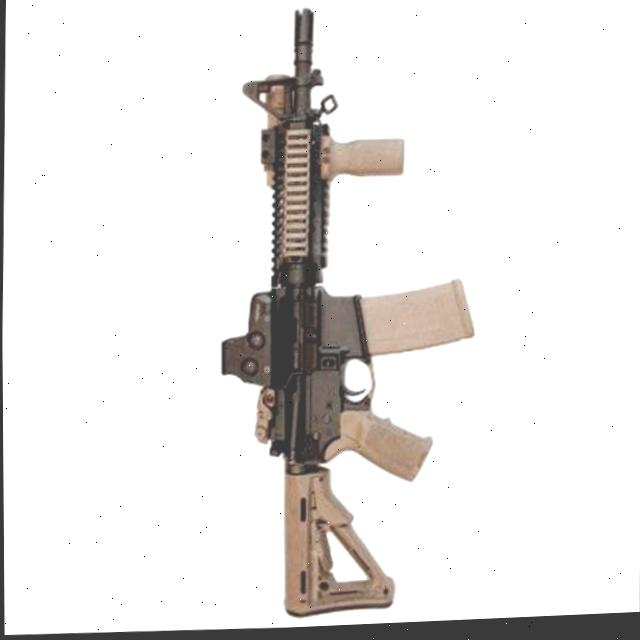rifle: (128, 0, 517, 636)
